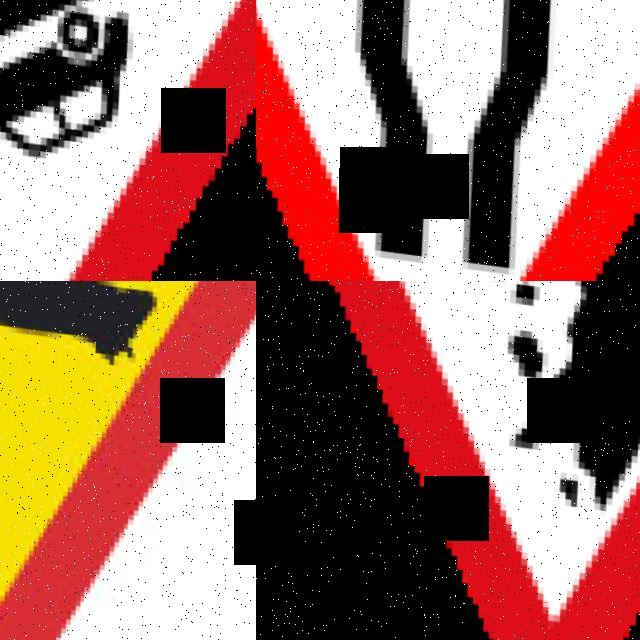136: (0, 281, 256, 640)
Falling rocks: (256, 281, 640, 640)
Narrow road: (256, 0, 640, 281)
Steep ascent: (0, 0, 256, 281)
